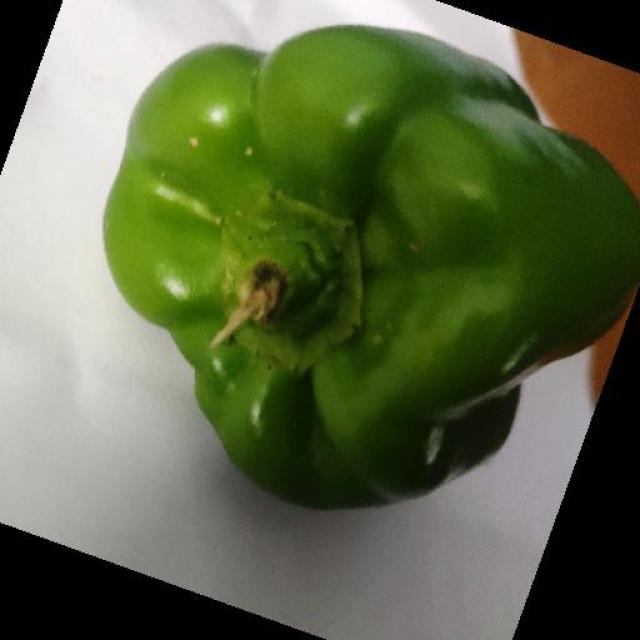Fresh_Capsicum: (115, 26, 640, 484)
